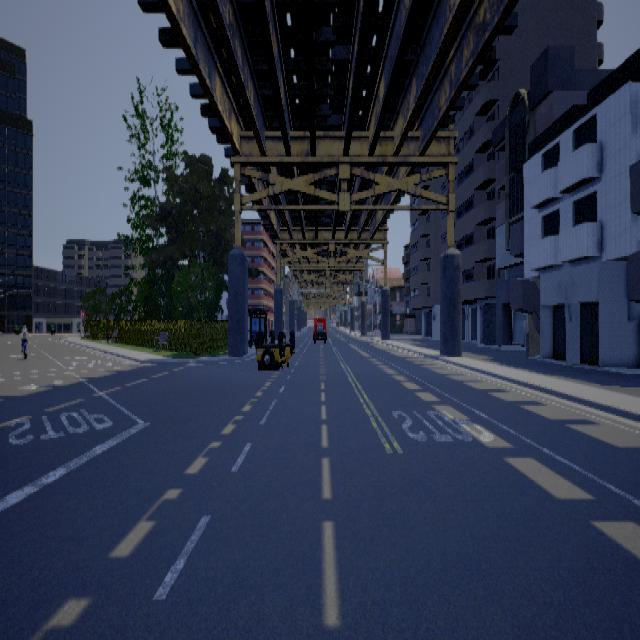bike: (17, 318, 33, 359)
vehicle: (256, 328, 296, 369), (312, 313, 330, 342)
